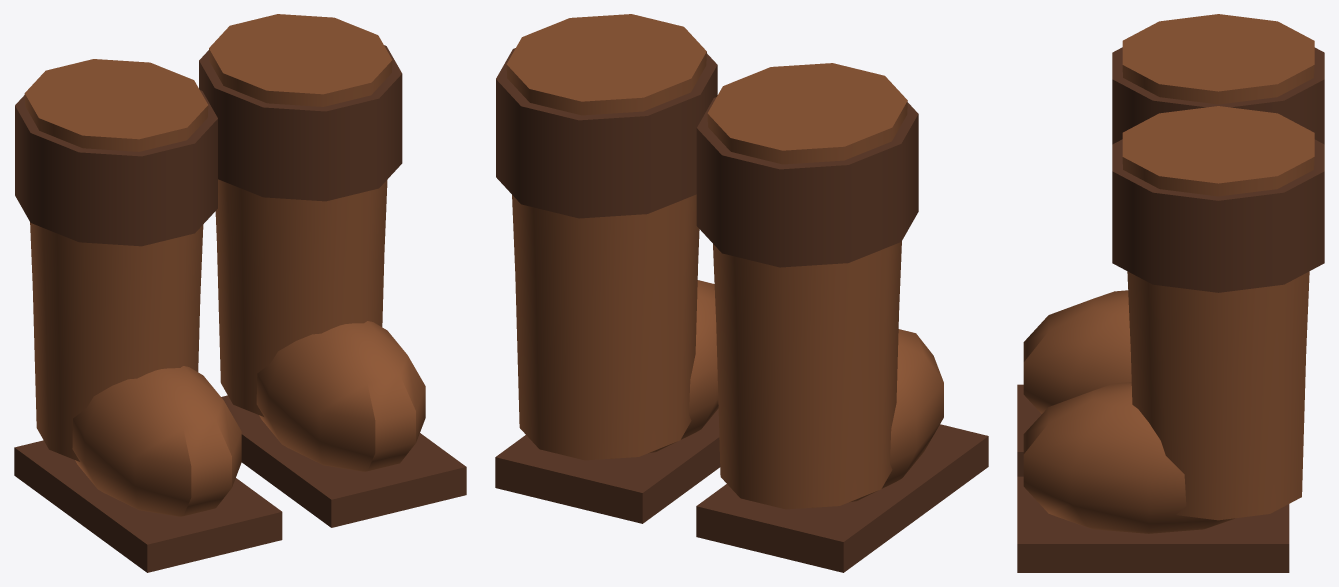
Rendered from boots-leather-pixor.glb.
3 renders of one model, left to right at view 1: azimuth 30°, elevation 25°; view 2: azimuth 150°, elevation 25°; view 3: azimuth 270°, elevation 25°, orthographic. The views are drawn at different scales.
Visible parts, largest first — view 1: Boots, Boot cuffs, Boot soles; view 2: Boots, Boot cuffs, Boot soles; view 3: Boots, Boot cuffs, Boot soles.
Boxes of the visible parts, left/top/right/bottom form: Boots: left=24, top=14, right=425, bottom=516; Boot cuffs: left=15, top=45, right=402, bottom=246; Boot soles: left=14, top=395, right=466, bottom=572; Boots: left=506, top=14, right=943, bottom=509; Boot cuffs: left=496, top=48, right=918, bottom=267; Boot soles: left=495, top=408, right=988, bottom=572; Boots: left=1023, top=14, right=1314, bottom=533; Boot cuffs: left=1112, top=47, right=1324, bottom=292; Boot soles: left=1017, top=384, right=1289, bottom=572.
Size of the model in its own units: 0.29 by 0.3 by 0.212.
